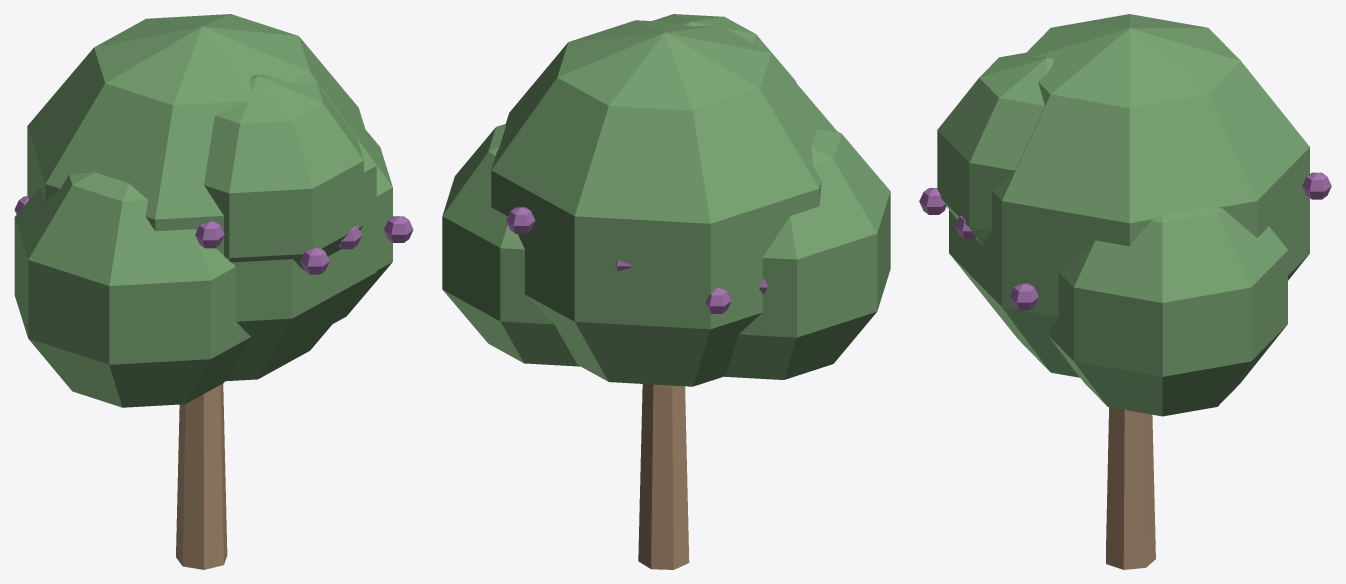
File: tree_plum.glb
3 renders of one model, left to right at view 1: azimuth 30°, elevation 25°; view 2: azimuth 150°, elevation 25°; view 3: azimuth 270°, elevation 25°, orthographic.
Visible parts, largest first — view 1: tree_plum; view 2: tree_plum; view 3: tree_plum.
Part boxes in pixels (x1,y1,x2,y2): tree_plum: [14, 14, 413, 569]; tree_plum: [442, 14, 890, 569]; tree_plum: [919, 14, 1331, 569].
Bounding box in the file's own units: 3.22 × 4.2 × 2.96.
